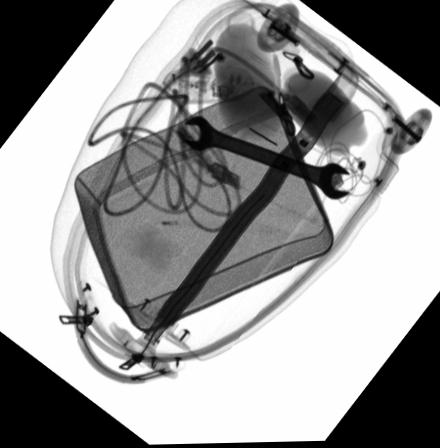Wrench: (183, 116, 350, 201)
